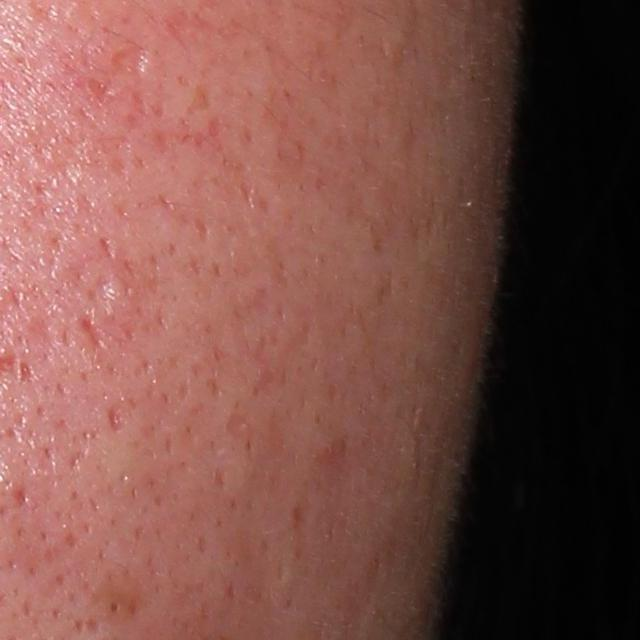atrophic_scar: (106, 41, 153, 80), (81, 268, 117, 313), (77, 316, 113, 349), (224, 408, 255, 442), (16, 355, 38, 388), (109, 408, 122, 433)
comedo: (102, 594, 124, 618)
